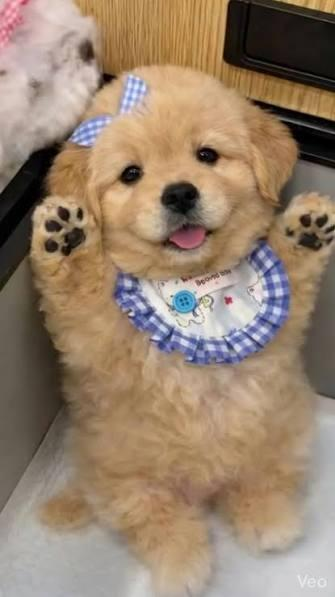puppy-dog: (28, 65, 335, 592)
